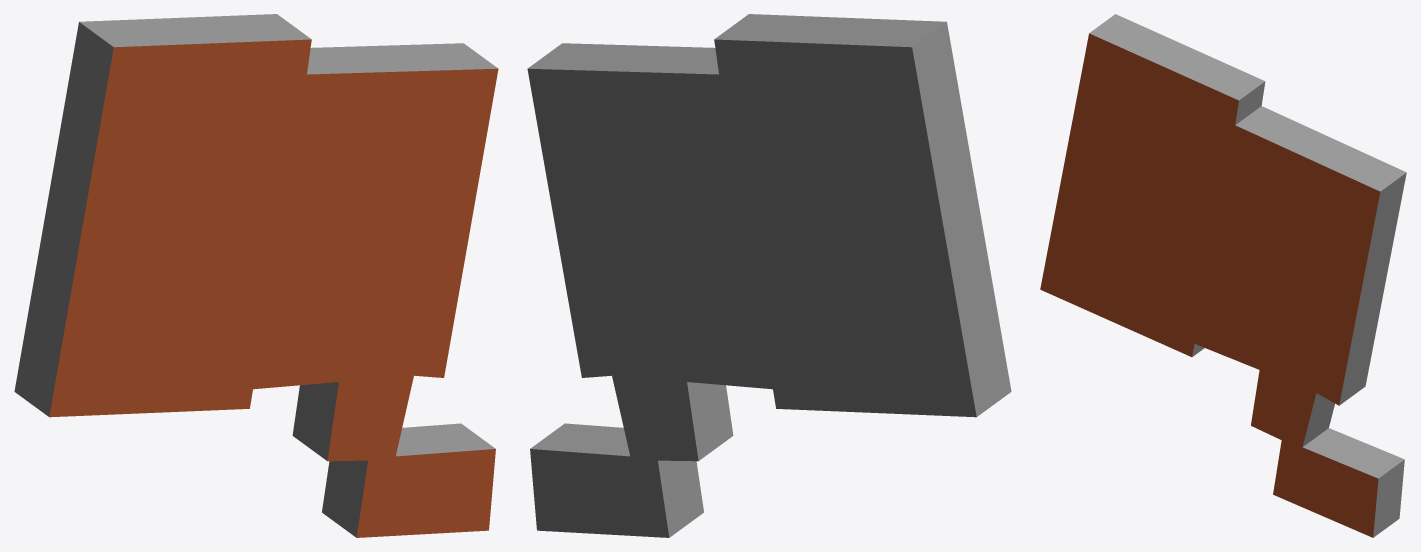
The model's file is construction_3805_assumed_A_Casa_h6m.obj.
3 renders of one model, left to right at view 1: azimuth 30°, elevation 25°; view 2: azimuth 150°, elevation 25°; view 3: azimuth 330°, elevation 25°, orthographic. The views are drawn at different scales.
Parts seen in each view (by area): view 1: construction_3805_assumed_A_Casa; view 2: construction_3805_assumed_A_Casa; view 3: construction_3805_assumed_A_Casa.
Boxes of the visible parts, box(x1,y1,x2,y2) form: construction_3805_assumed_A_Casa: box(14, 14, 498, 537); construction_3805_assumed_A_Casa: box(527, 14, 1011, 537); construction_3805_assumed_A_Casa: box(1040, 14, 1406, 537).
Size of the model in its own units: 44.69 by 54.64 by 6.
